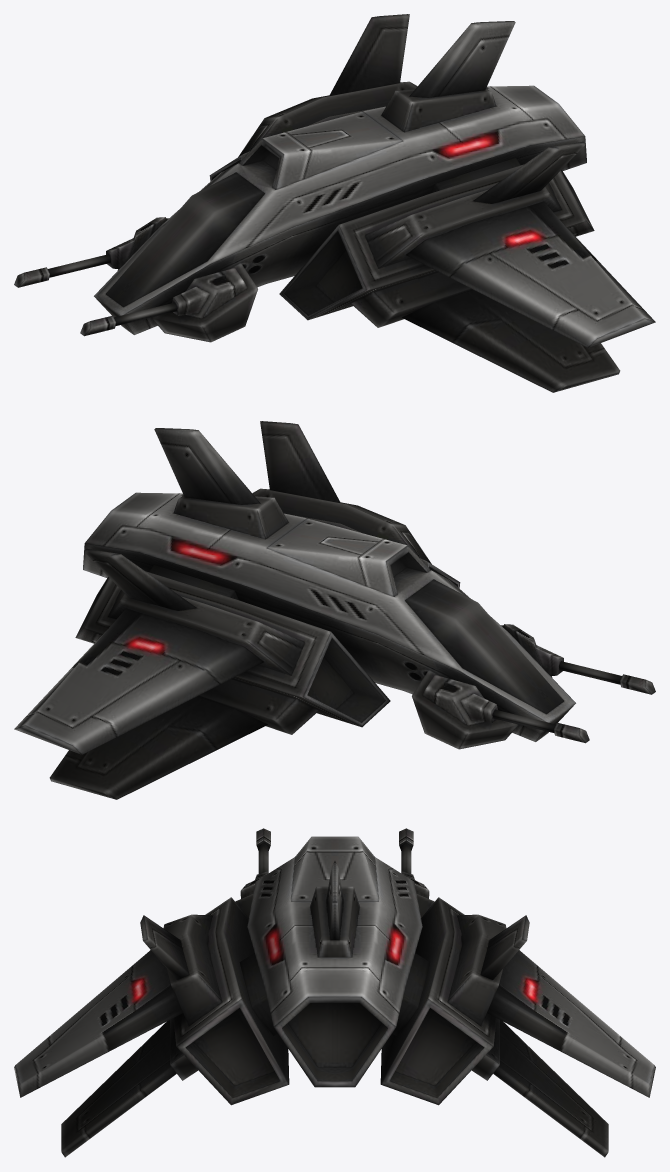
3 views of the same model, one above another, from view 1: azimuth 30°, elevation 25°; view 2: azimuth 150°, elevation 25°; view 3: azimuth 270°, elevation 25° (orthographic). The views are drawn at different scales.
Parts seen in each view (by area): view 1: small_space_ship_6_001; view 2: small_space_ship_6_001; view 3: small_space_ship_6_001.
Part boxes in pixels (box(x1,y1,x2,y2)): small_space_ship_6_001: box(14, 14, 655, 392); small_space_ship_6_001: box(14, 421, 655, 799); small_space_ship_6_001: box(14, 828, 655, 1157).
Bounding box in the file's own units: 53.59 × 25.96 × 52.28.
Materials: 1 (1 with a texture image).
